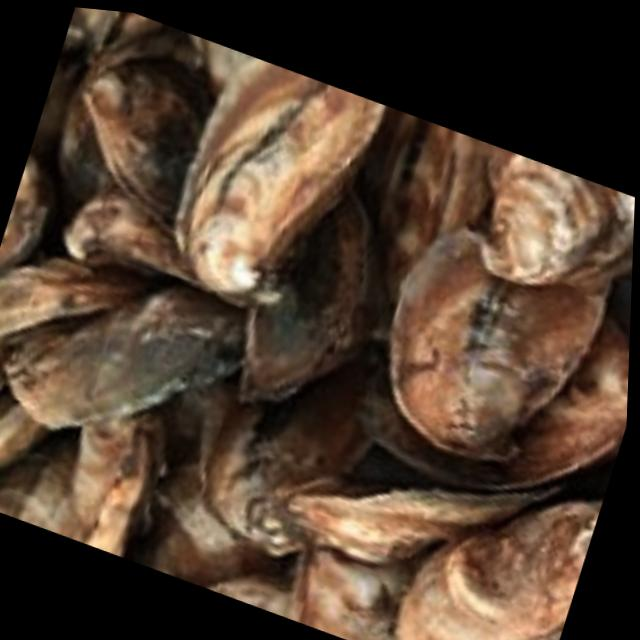Oyster-Closed: (358, 320, 629, 490), (84, 58, 213, 230)
Oyster-Indeterminate: (171, 53, 385, 306), (390, 232, 603, 464), (203, 345, 382, 558), (9, 289, 242, 427), (362, 111, 501, 340), (235, 191, 371, 405), (396, 502, 600, 640), (55, 37, 191, 206), (484, 150, 635, 281), (285, 486, 552, 560), (129, 465, 292, 584), (64, 187, 210, 296), (287, 536, 438, 640), (69, 407, 164, 538), (0, 258, 149, 336), (0, 436, 86, 540), (85, 438, 148, 554), (0, 154, 50, 270), (205, 571, 295, 616)
